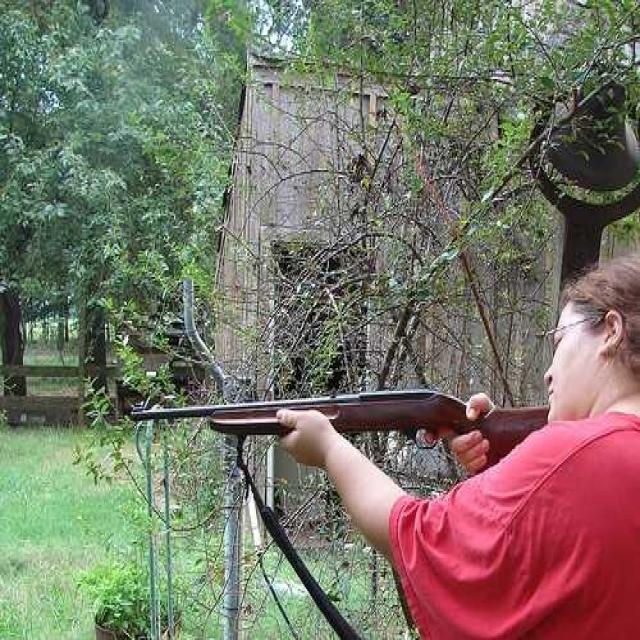heavyweapon: (88, 320, 586, 485)
